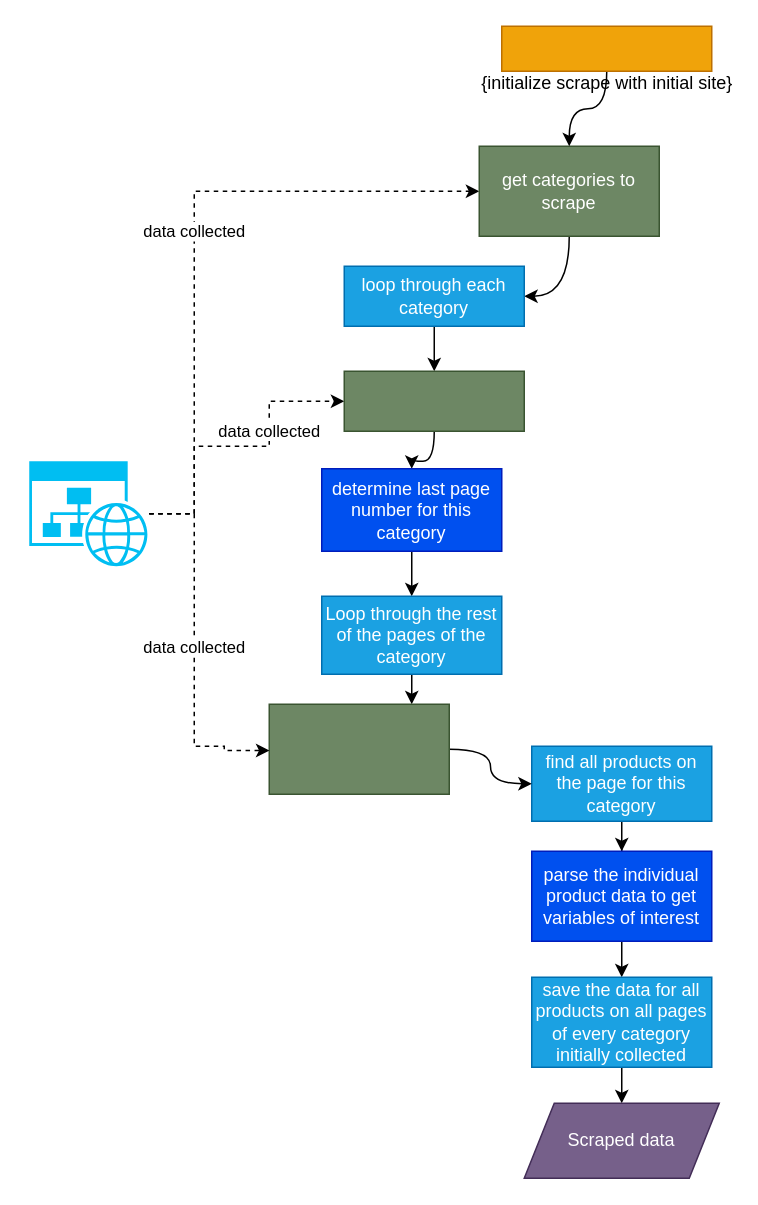
The diagram is 758 pixels wide and 1205 high, and some of its shapes have lost their labels. Here are the shapes that lost their labels. From the top down, the box of each, then its label:
(500, 25, 712, 71): specify initial site url
(343, 370, 524, 431): get page 1 of the category page
(28, 460, 148, 566): Retailer website
(268, 703, 449, 794): get N'th page of the category (including first)
